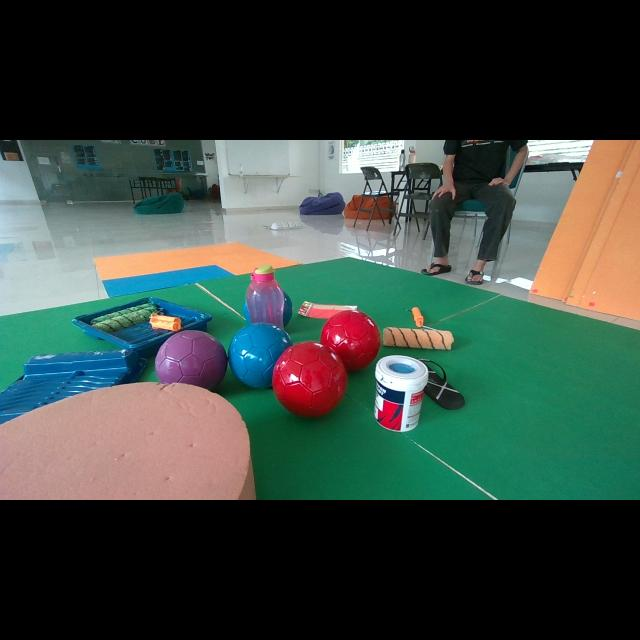B: (228, 322, 292, 388)
P: (155, 330, 228, 390)
R: (272, 341, 348, 417), (320, 310, 381, 371)
